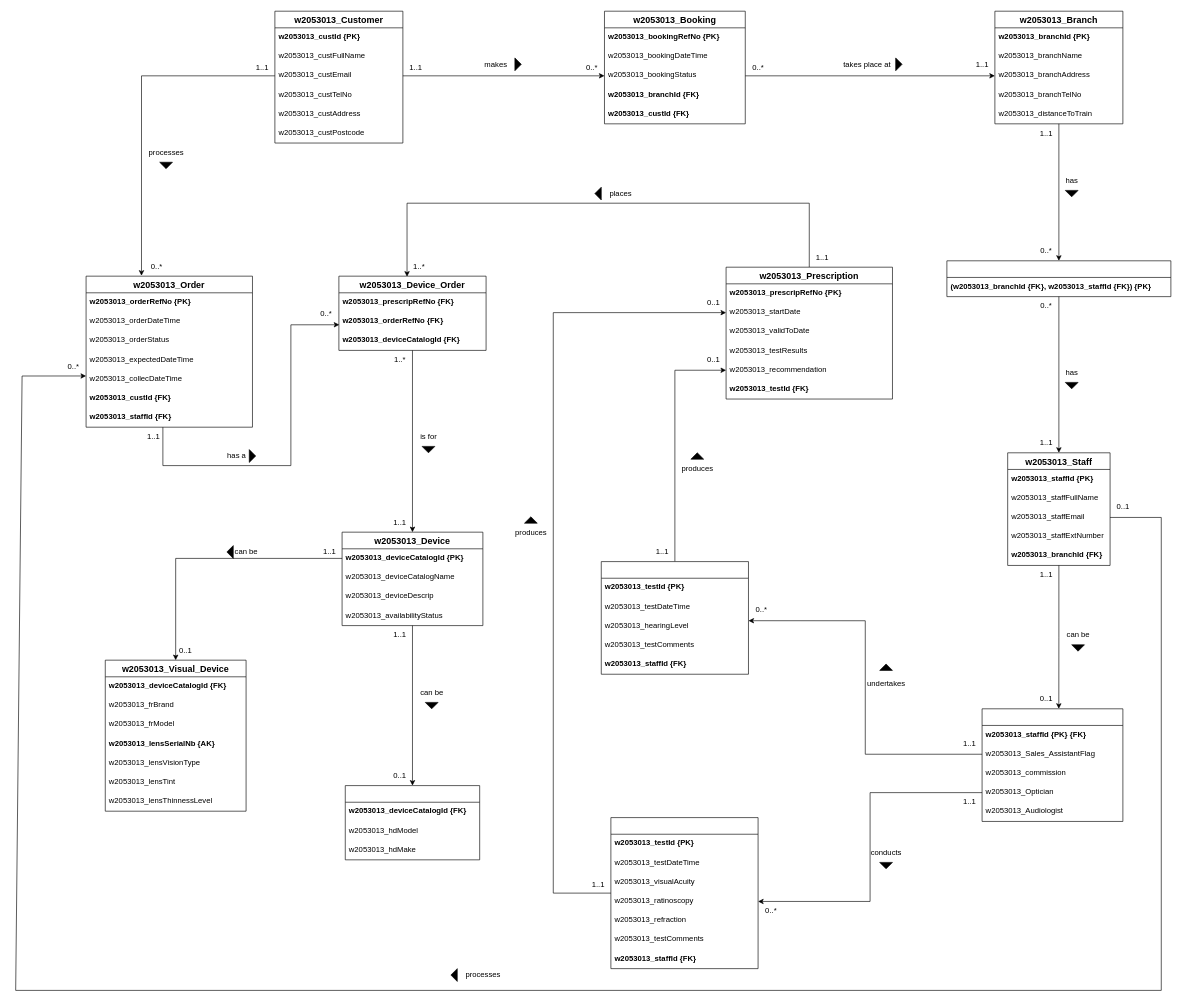
Some shapes in this 1182 by 1007 pixel diagram are drawn without their labels. The shapes that lost their labels are listed below. From the top down, each one's box as (x1, y1, x2, y2) in pixels, then its label:
(946, 260, 1171, 297): w2053013_Branch_Staff
(601, 561, 748, 674): w2053013_Hearing_Test
(981, 708, 1123, 821): w2053013_Staff_Type
(345, 785, 480, 860): w2053013_Hearing_Device
(610, 817, 758, 969): w2053013_Vision_Teast
